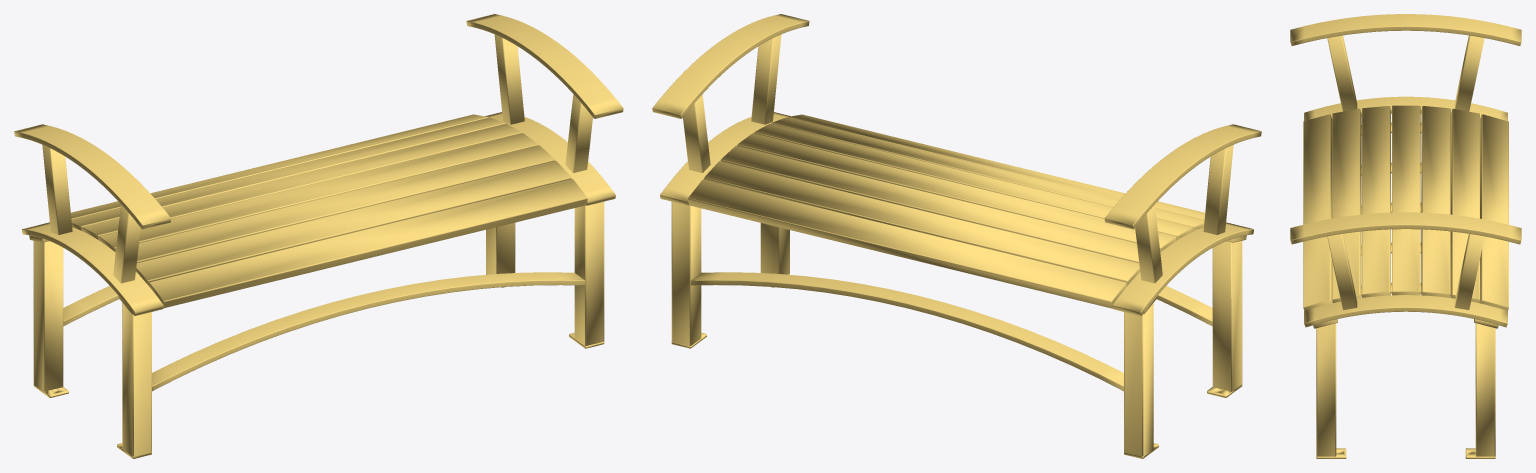
3 views of the same model, side by side, from view 1: azimuth 30°, elevation 25°; view 2: azimuth 150°, elevation 25°; view 3: azimuth 270°, elevation 25° (orthographic). The views are drawn at different scales.
Visible parts, largest first — view 1: mesh4_mesh4-geometry, mesh17_mesh17-geometry, mesh16_mesh16-geometry, mesh20_mesh20-geometry, mesh15_mesh15-geometry, mesh14_mesh14-geometry, mesh27_mesh27-geometry, mesh19_mesh19-geometry, mesh18_mesh18-geometry, mesh1_mesh1-geometry, mesh5_mesh5-geometry, mesh25_mesh25-geometry (+9 smaller); view 2: mesh3_mesh3-geometry, mesh5_mesh5-geometry, mesh14_mesh14-geometry, mesh28_mesh28-geometry, mesh15_mesh15-geometry, mesh16_mesh16-geometry, mesh1_mesh1-geometry, mesh19_mesh19-geometry, mesh18_mesh18-geometry, mesh27_mesh27-geometry, mesh26_mesh26-geometry, mesh17_mesh17-geometry (+9 smaller); view 3: mesh14_mesh14-geometry, mesh4_mesh4-geometry, mesh15_mesh15-geometry, mesh16_mesh16-geometry, mesh3_mesh3-geometry, mesh17_mesh17-geometry, mesh5_mesh5-geometry, mesh18_mesh18-geometry, mesh19_mesh19-geometry, mesh7_mesh7-geometry, mesh26_mesh26-geometry, mesh25_mesh25-geometry (+5 smaller).
Boxes of the visible parts, bbox=[...] form: mesh4_mesh4-geometry: bbox=[148, 179, 587, 308]; mesh17_mesh17-geometry: bbox=[136, 161, 571, 285]; mesh16_mesh16-geometry: bbox=[137, 145, 555, 262]; mesh20_mesh20-geometry: bbox=[152, 272, 585, 391]; mesh15_mesh15-geometry: bbox=[99, 133, 538, 252]; mesh14_mesh14-geometry: bbox=[82, 123, 521, 240]; mesh27_mesh27-geometry: bbox=[33, 241, 68, 397]; mesh19_mesh19-geometry: bbox=[14, 124, 171, 229]; mesh18_mesh18-geometry: bbox=[466, 14, 623, 118]; mesh1_mesh1-geometry: bbox=[117, 303, 151, 458]; mesh5_mesh5-geometry: bbox=[71, 117, 504, 230]; mesh25_mesh25-geometry: bbox=[574, 201, 604, 345]; mesh3_mesh3-geometry: bbox=[688, 179, 1126, 308]; mesh5_mesh5-geometry: bbox=[704, 161, 1139, 285]; mesh14_mesh14-geometry: bbox=[720, 145, 1138, 263]; mesh28_mesh28-geometry: bbox=[690, 272, 1123, 391]; mesh15_mesh15-geometry: bbox=[737, 133, 1176, 252]; mesh16_mesh16-geometry: bbox=[754, 124, 1193, 240]; mesh1_mesh1-geometry: bbox=[1207, 241, 1242, 397]; mesh19_mesh19-geometry: bbox=[1104, 124, 1261, 229]; mesh18_mesh18-geometry: bbox=[652, 14, 809, 118]; mesh27_mesh27-geometry: bbox=[1124, 303, 1158, 458]; mesh26_mesh26-geometry: bbox=[671, 201, 706, 348]; mesh17_mesh17-geometry: bbox=[771, 117, 1204, 231]; mesh14_mesh14-geometry: bbox=[1421, 106, 1450, 297]; mesh4_mesh4-geometry: bbox=[1303, 114, 1332, 310]; mesh15_mesh15-geometry: bbox=[1392, 105, 1420, 295]; mesh16_mesh16-geometry: bbox=[1362, 106, 1390, 297]; mesh3_mesh3-geometry: bbox=[1479, 114, 1508, 310]; mesh17_mesh17-geometry: bbox=[1332, 108, 1361, 302]; mesh5_mesh5-geometry: bbox=[1450, 108, 1479, 302]; mesh18_mesh18-geometry: bbox=[1290, 212, 1521, 244]; mesh19_mesh19-geometry: bbox=[1290, 14, 1521, 45]; mesh7_mesh7-geometry: bbox=[1304, 295, 1507, 327]; mesh26_mesh26-geometry: bbox=[1465, 323, 1495, 458]; mesh25_mesh25-geometry: bbox=[1316, 323, 1336, 456].
Size of the model in its own units: 0.82 by 0.4283 by 0.3796.
